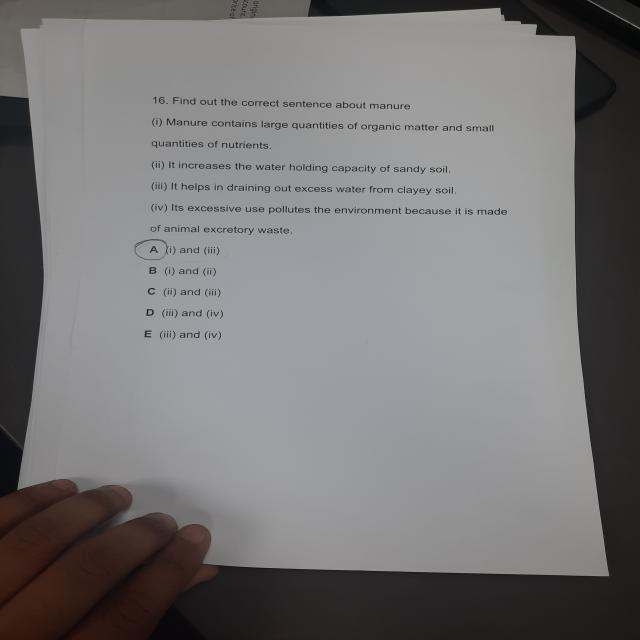A: (132, 238, 172, 263)
